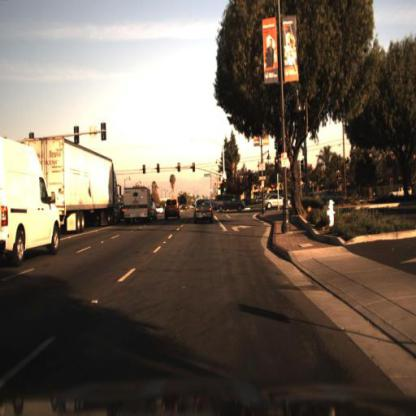car: (1, 131, 61, 263), (122, 187, 152, 230), (261, 191, 295, 220), (212, 190, 249, 215), (213, 192, 249, 215), (316, 185, 347, 208), (191, 200, 215, 226), (161, 196, 183, 222), (314, 190, 345, 206), (151, 200, 160, 225)
trafficLight-Red: (273, 156, 283, 172), (190, 159, 198, 174), (141, 163, 149, 177), (142, 163, 148, 175), (154, 162, 160, 174), (175, 159, 181, 171), (157, 164, 162, 176), (177, 162, 182, 174), (192, 161, 197, 173), (223, 178, 228, 189)
truck: (22, 133, 121, 232)
